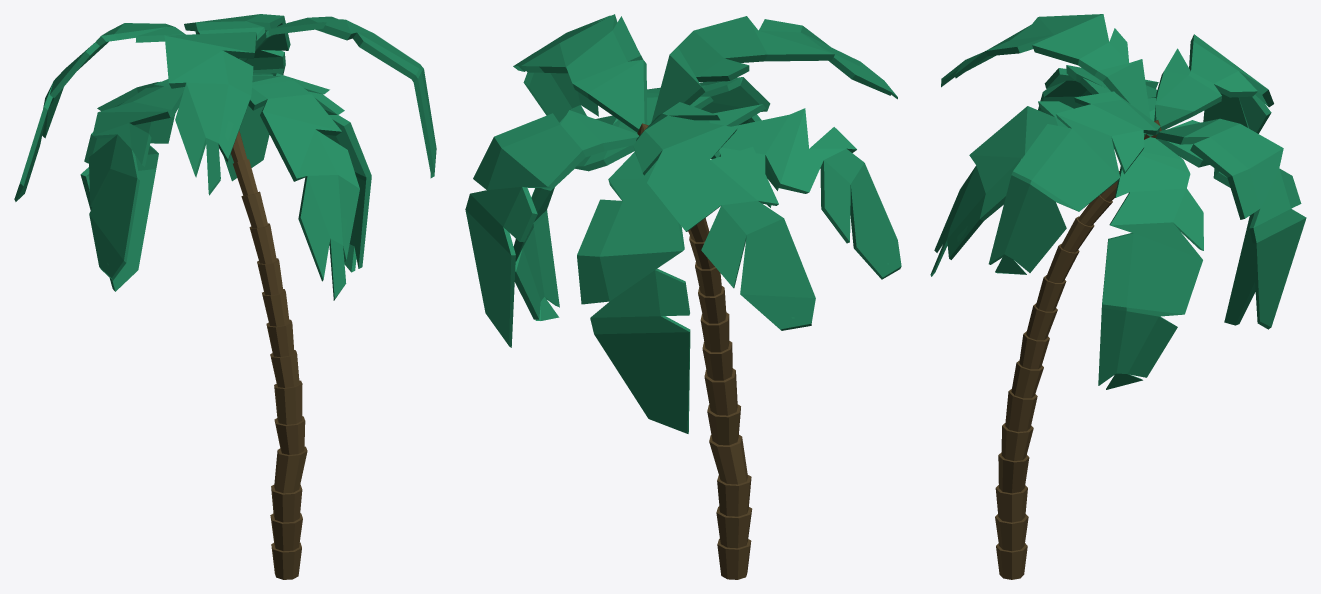
The model's file is PalmTree_3.fbx.
The picture shows the model from 3 angles, left to right: view 1: azimuth 30°, elevation 25°; view 2: azimuth 150°, elevation 25°; view 3: azimuth 270°, elevation 25°; orthographic projection. The views are drawn at different scales.
Visible parts, largest first — view 1: PalmTree.003; view 2: PalmTree.003; view 3: PalmTree.003.
Boxes of the visible parts, x1,y1,x2,y2 form: PalmTree.003: (14, 14, 436, 579); PalmTree.003: (465, 14, 901, 579); PalmTree.003: (930, 14, 1306, 579).
Size of the model in its own units: 333 by 492 by 321.
